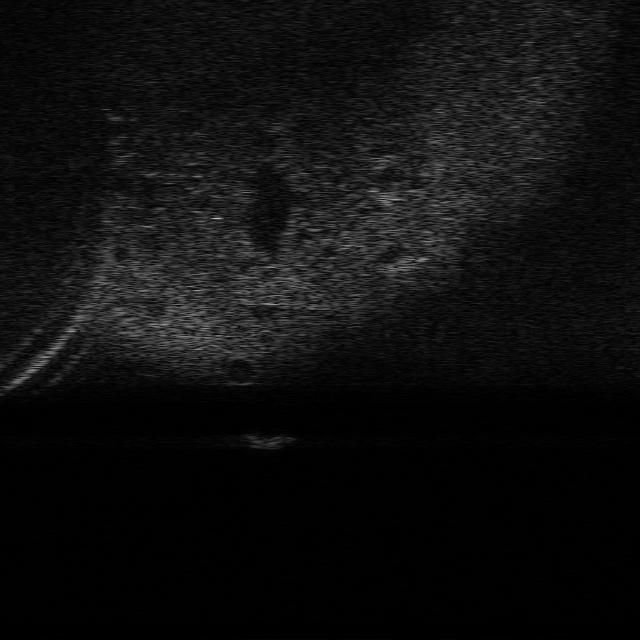cube: (246, 428, 290, 452)
